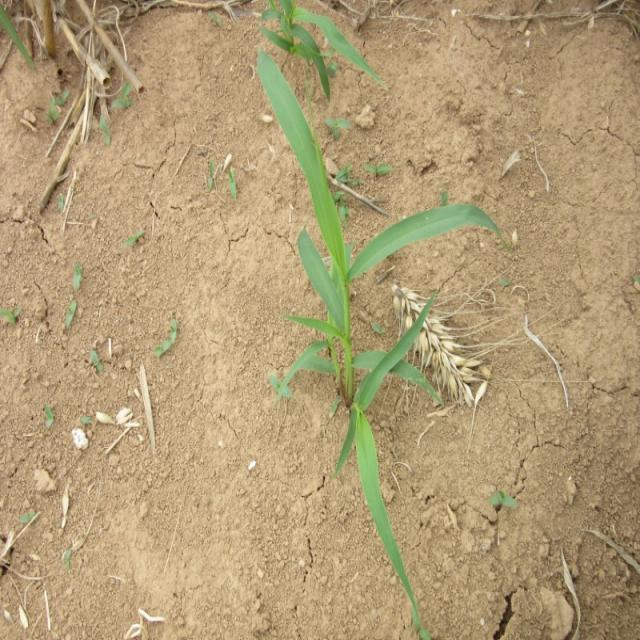bg: (253, 49, 490, 640)
